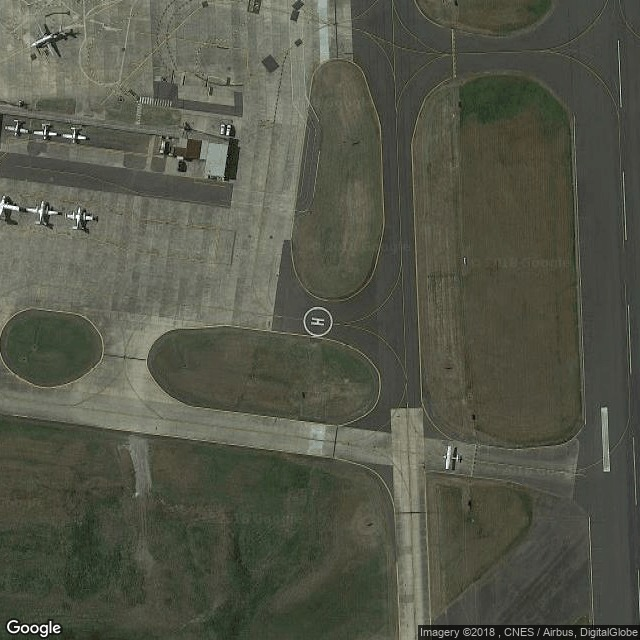heliport: (309, 315, 325, 326)
